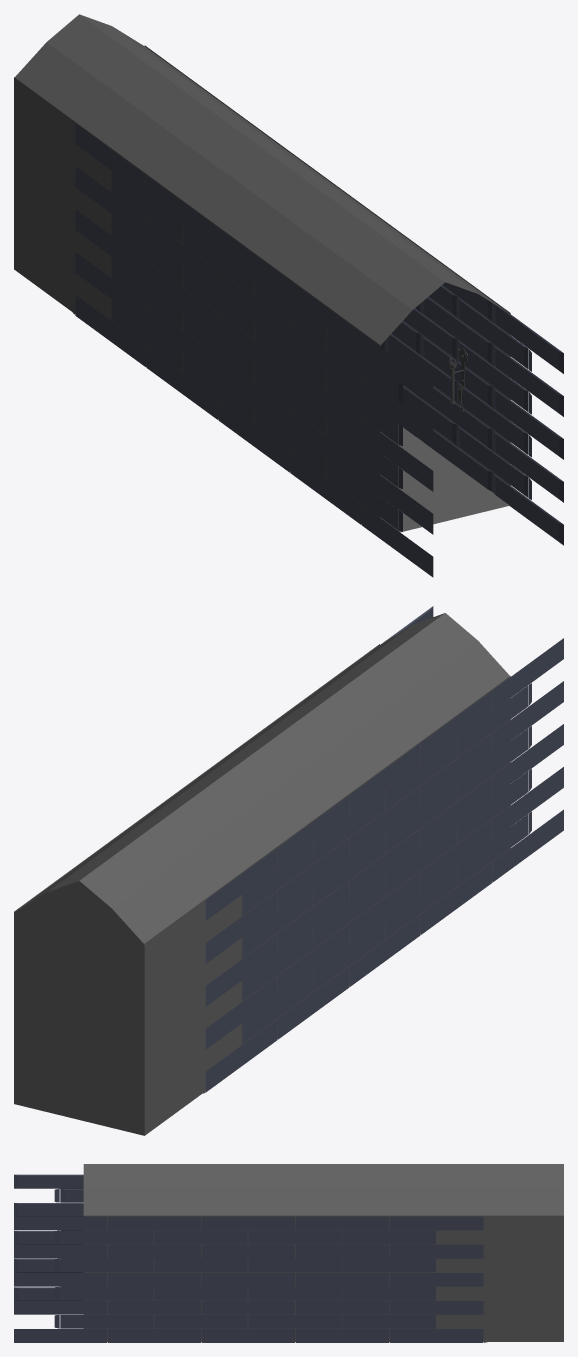
The model's file is hallway7.glb.
3 views of the same model, one above another, from view 1: azimuth 30°, elevation 25°; view 2: azimuth 150°, elevation 25°; view 3: azimuth 270°, elevation 25° (orthographic). The views are drawn at different scales.
Visible parts, largest first — view 1: Hallway, Bricks_B, Bricks_A; view 2: Hallway, Bricks_B, Bricks_A; view 3: Hallway, Bricks_B, Bricks_A.
Boxes of the visible parts, box(x1,y1,x2,y2) form: Hallway: box(14, 14, 510, 532); Bricks_B: box(73, 123, 563, 577); Bricks_A: box(111, 171, 531, 531); Hallway: box(14, 613, 510, 1135); Bricks_B: box(203, 606, 563, 1093); Bricks_A: box(241, 683, 531, 1044); Hallway: box(83, 1164, 563, 1341); Bricks_B: box(14, 1174, 487, 1342); Bricks_A: box(54, 1188, 435, 1328).
Bounding box in the file's own units: 4.27 × 7.5 × 23.7.
